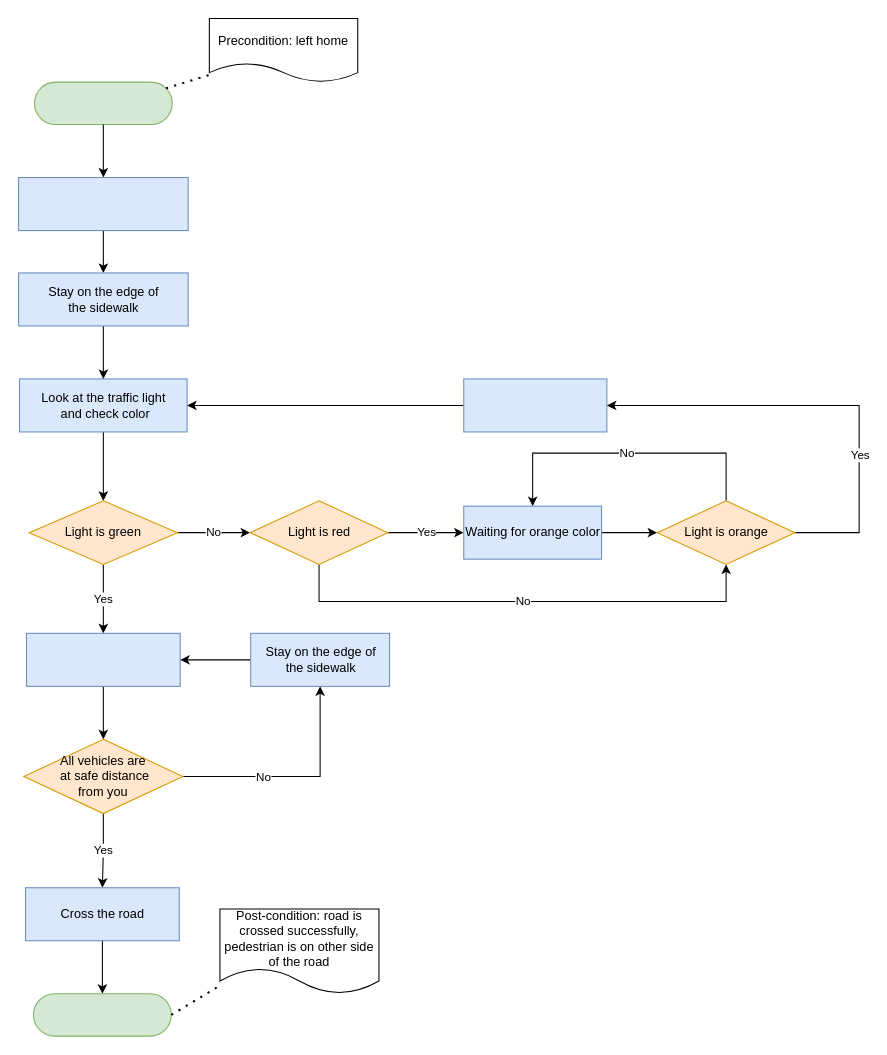
This 887x1055 diagram has some shape labels left out. Each missing label, with the centre of its shape:
"End" belongs at (101,1014).
"Get ready to cross the road" belongs at (535,405).
"Go to the road with a regulated pedestrian crossing" belongs at (102,203).
"Look left and right" belongs at (102,659).
"Start" belongs at (102,103).
